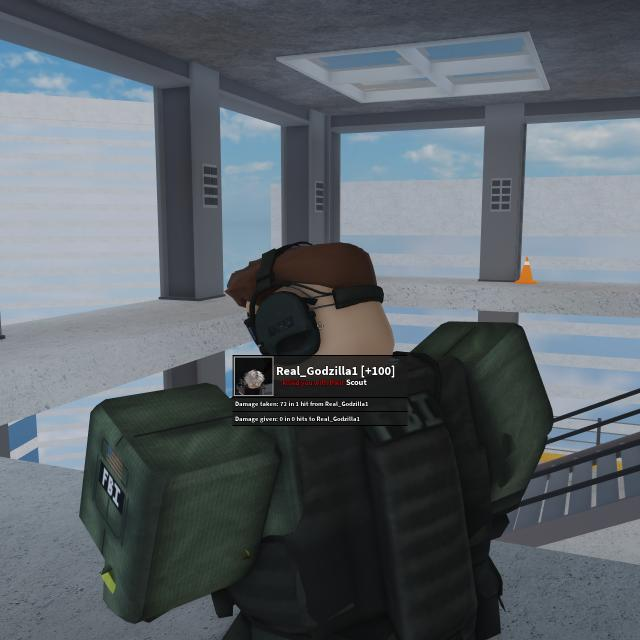Head: (244, 245, 394, 396)
Player: (78, 241, 554, 640)
